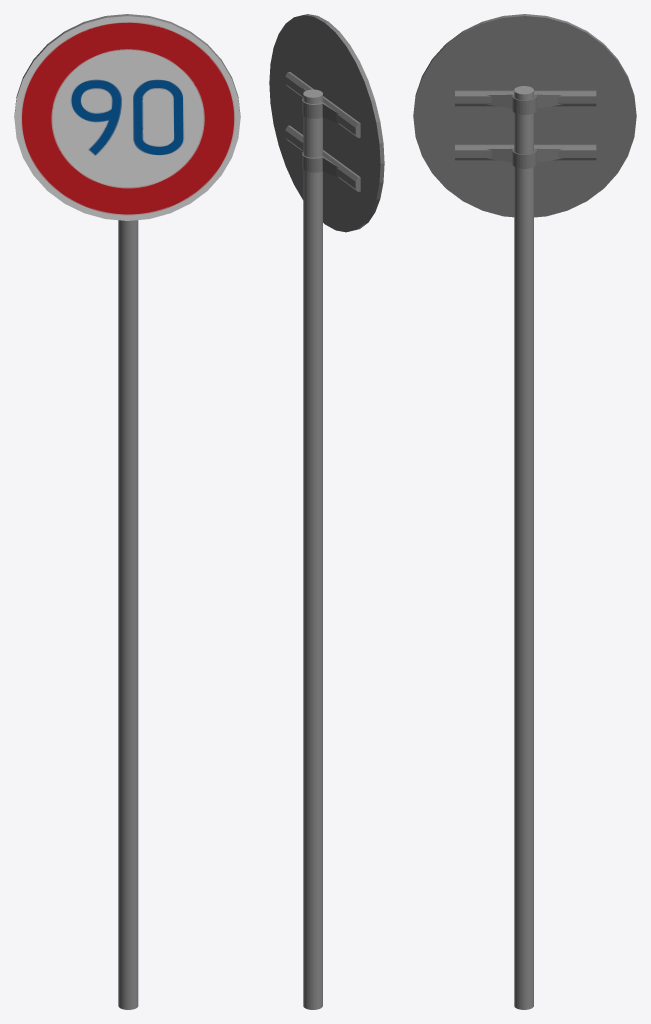
3 views of the same model, side by side, from view 1: azimuth 90°, elevation 25°; view 2: azimuth 210°, elevation 25°; view 3: azimuth 270°, elevation 25° (orthographic).
Visible parts, largest first — view 1: 025-90, Prop; view 2: Prop, 025-90; view 3: 025-90, Prop.
Part boxes in pixels (left/top/right/bottom): 025-90: left=14, top=14, right=240, bottom=220; Prop: left=118, top=220, right=138, bottom=1009; Prop: left=285, top=72, right=360, bottom=1009; 025-90: left=269, top=14, right=384, bottom=232; 025-90: left=413, top=14, right=636, bottom=217; Prop: left=455, top=86, right=596, bottom=1009.
Bounding box in the file's own units: 6.76 × 253 × 52.01.
